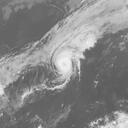cyclone: (50, 43, 82, 85)
